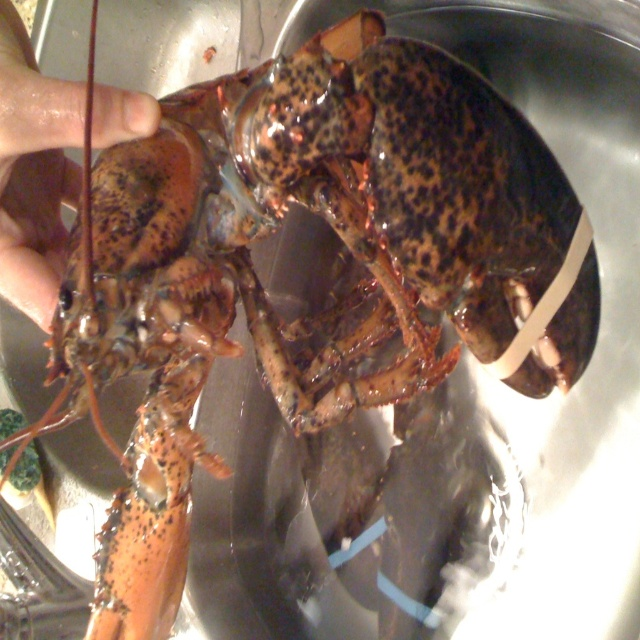Crab: (0, 7, 603, 640)
